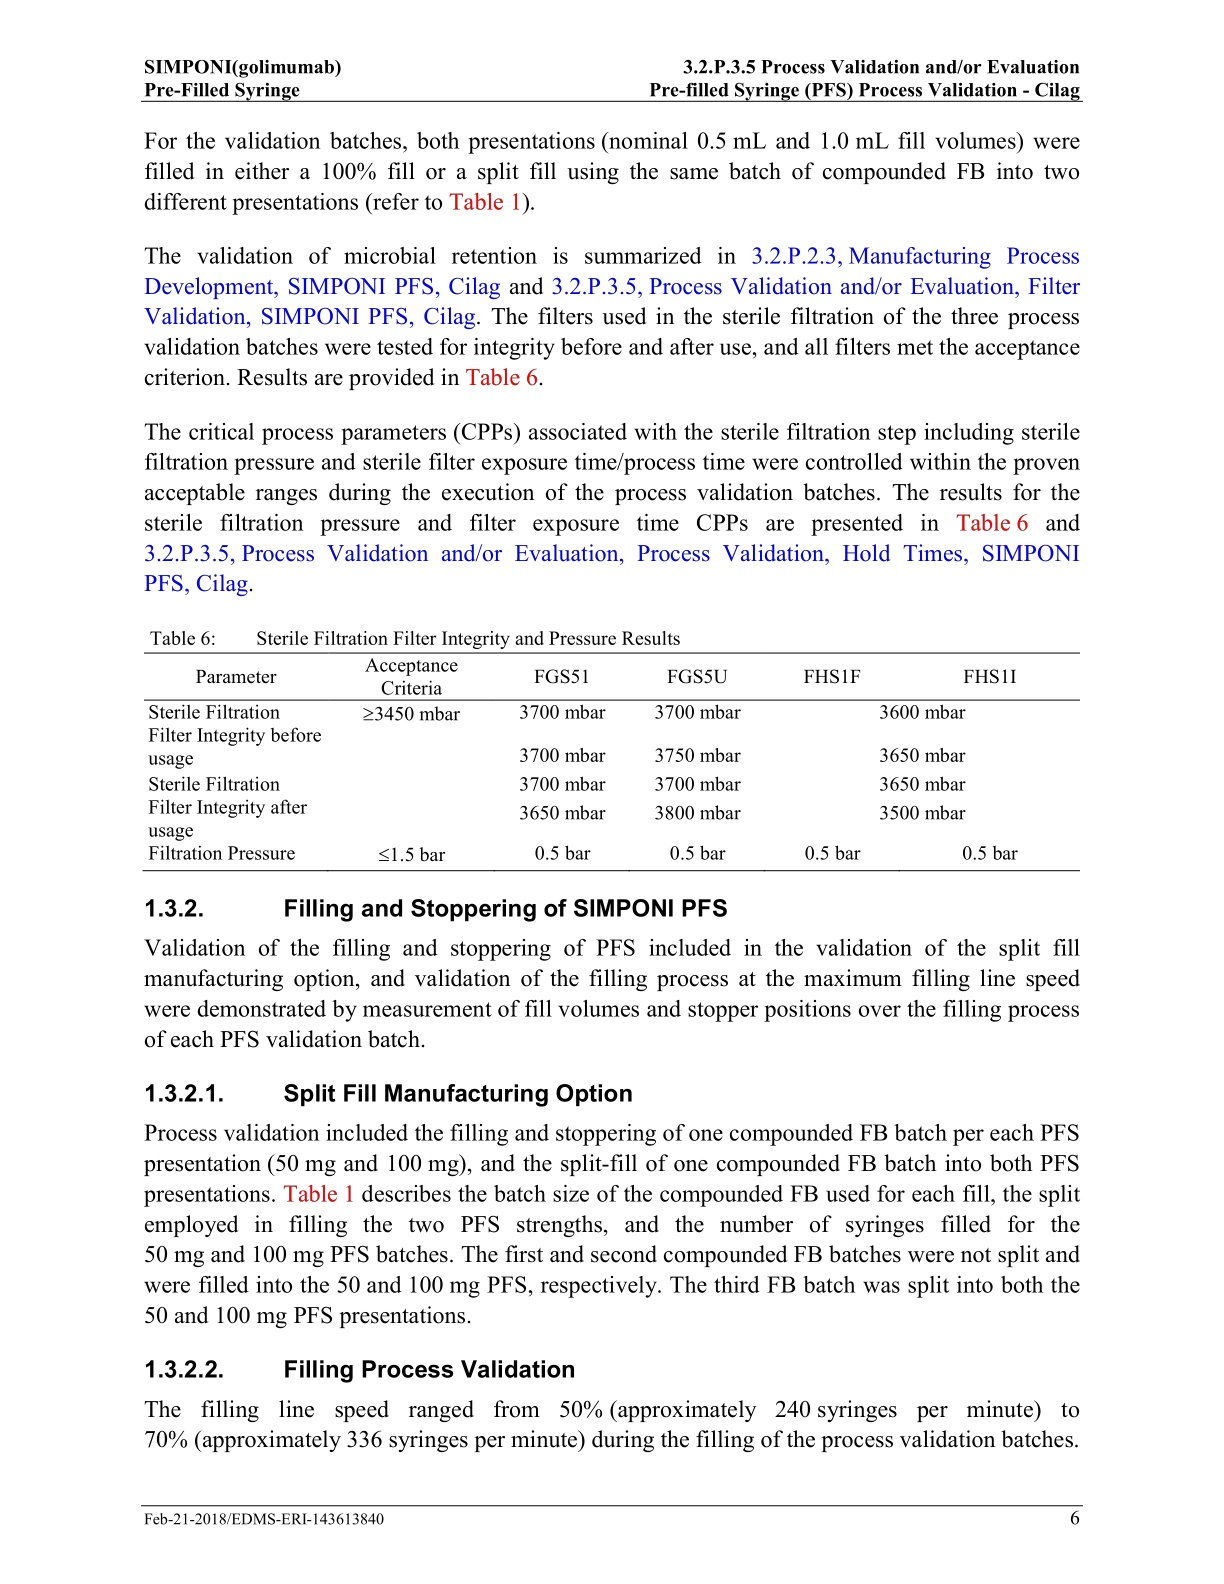partial_lined: (143, 651, 1084, 873)
